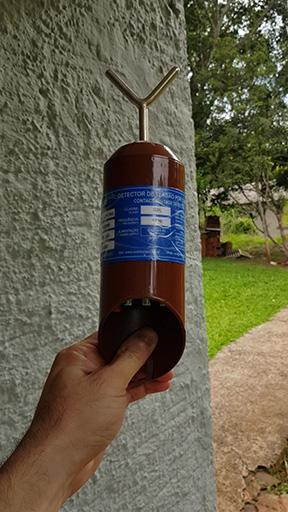Detector_Tensao_Contato: (97, 64, 188, 383)
